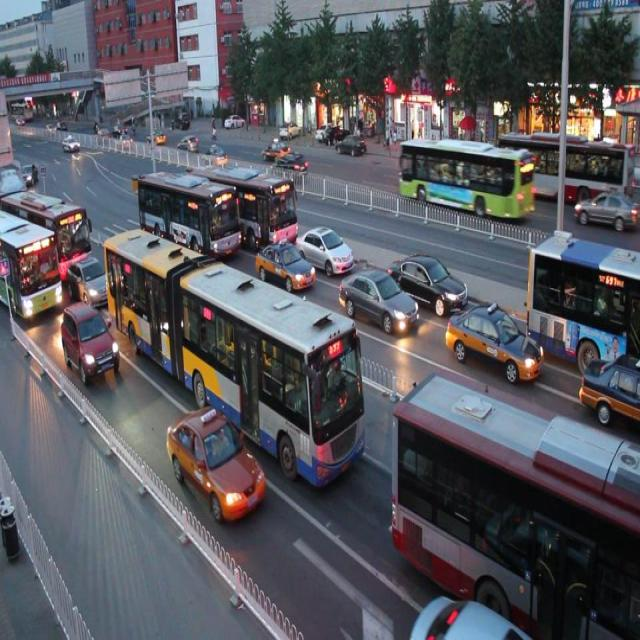car: (168, 407, 268, 523), (446, 294, 544, 382), (408, 583, 530, 640), (337, 258, 416, 331), (390, 243, 468, 309), (576, 350, 640, 424), (62, 306, 121, 379), (253, 230, 314, 289), (294, 214, 352, 273), (67, 256, 114, 311)
van: (102, 218, 366, 482), (392, 377, 640, 640), (526, 232, 640, 364), (136, 160, 240, 262), (191, 153, 298, 248), (1, 182, 90, 272), (1, 208, 61, 324)
